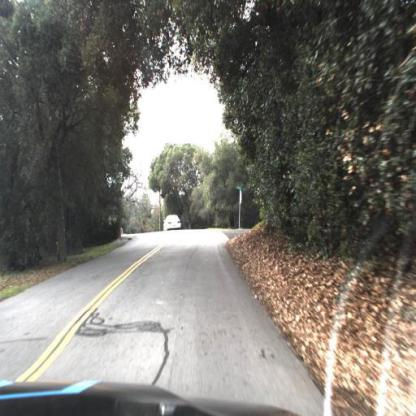car: (161, 210, 185, 238)
